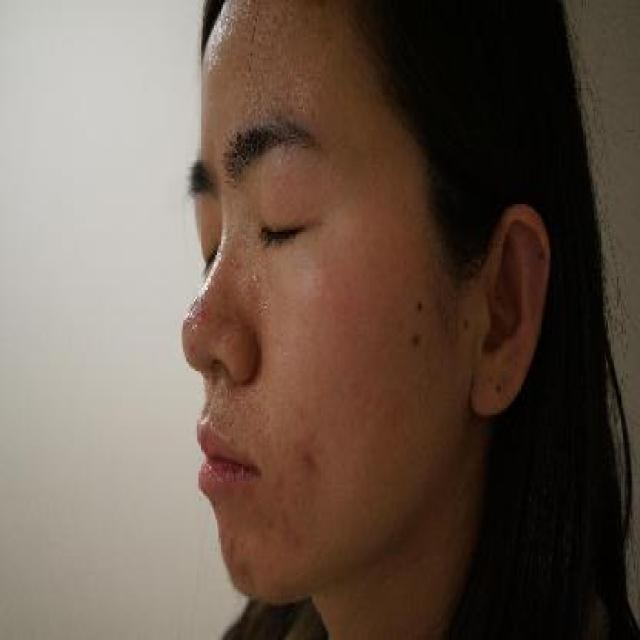Acne: (296, 442, 324, 481)
